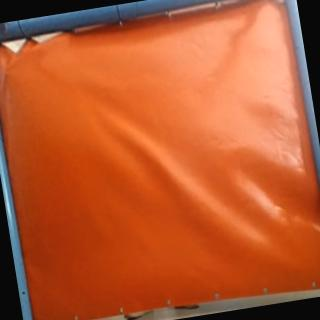Hit-hRxx: (1, 64, 14, 80)
